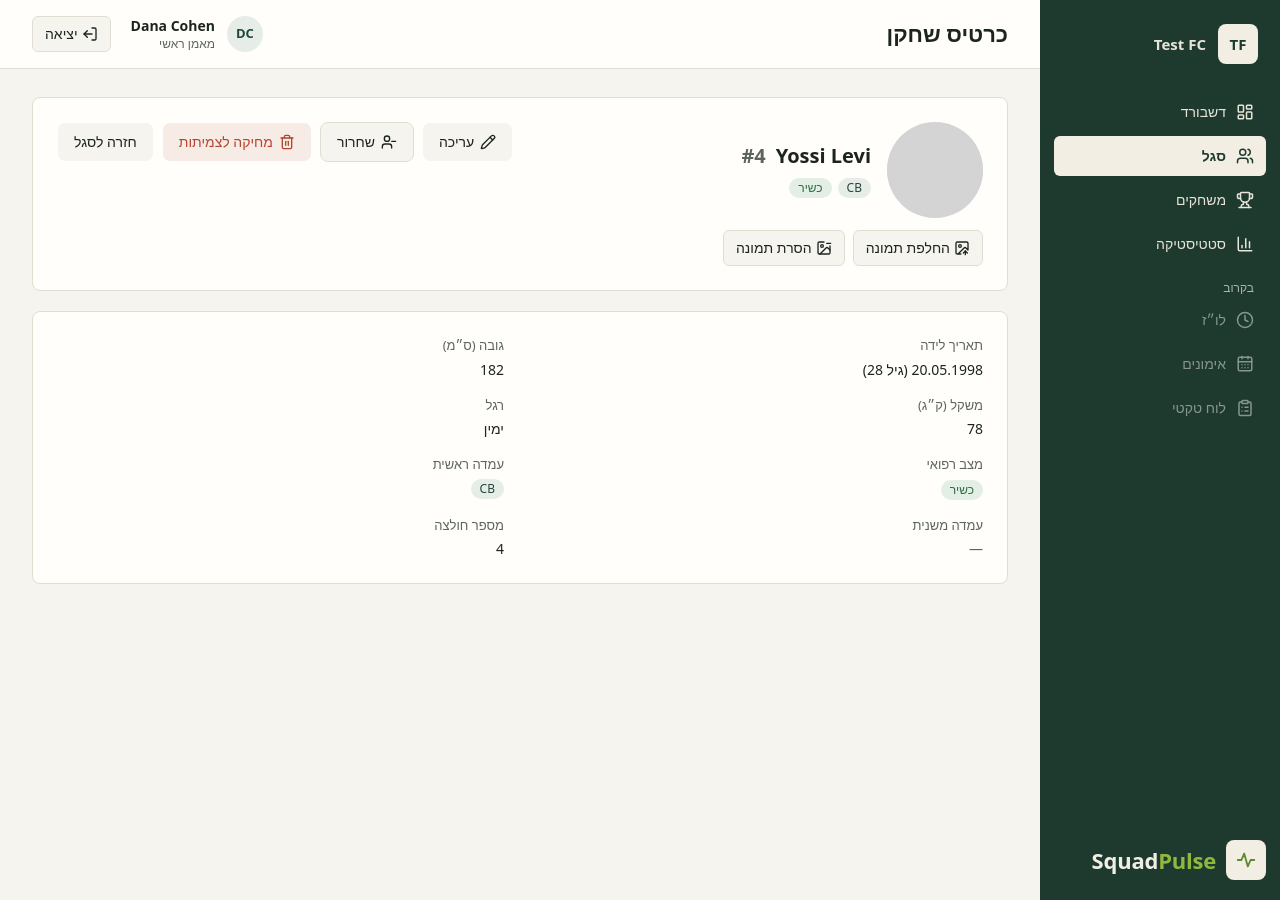
it: the card's photo controls › show a failed removal in its dialog
expect the heading "Yossi Levi" is shown: met, box [776,142,871,170]
Click the button "הסרת תמונה" at (784, 248), box [723,230,845,266]
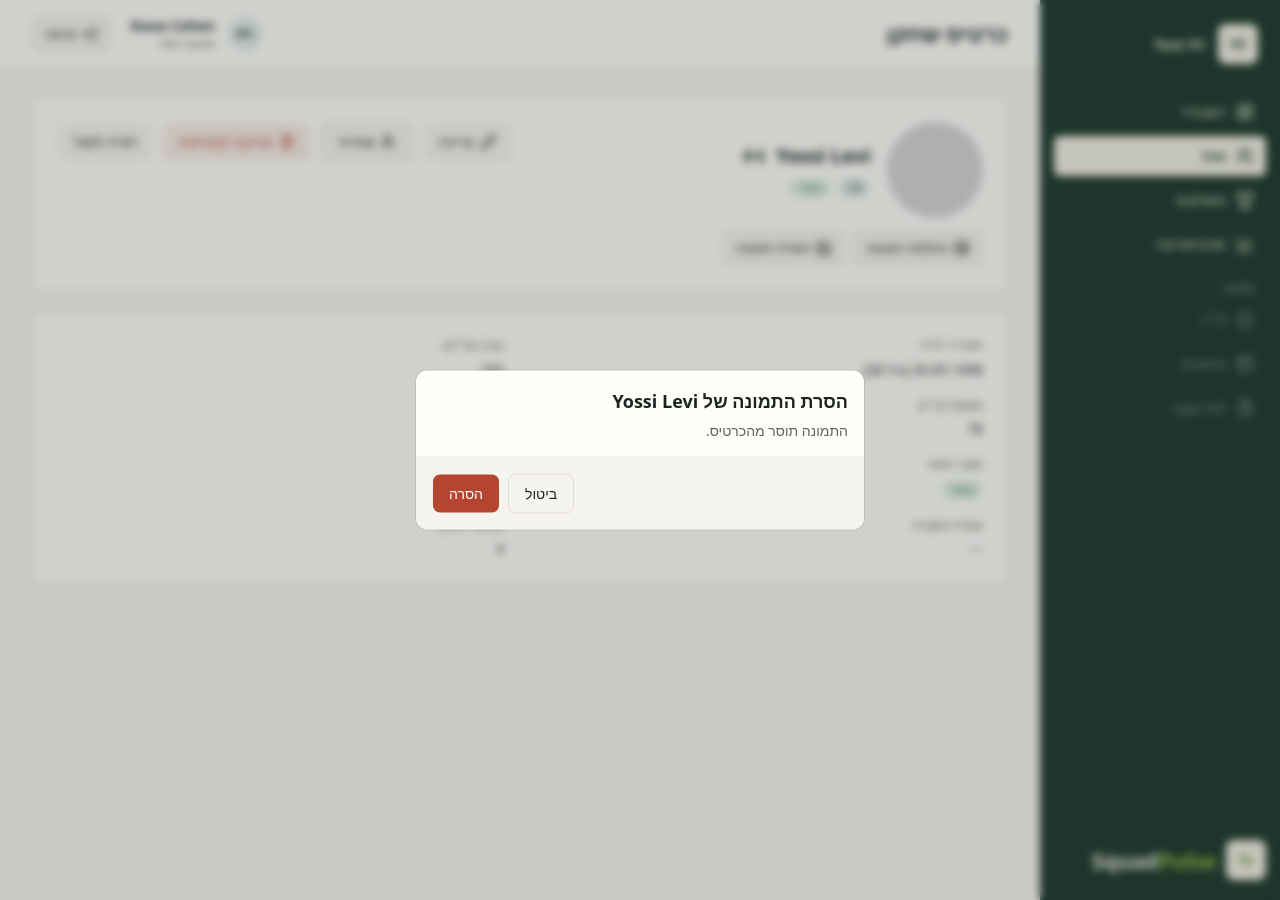
Click the button "הסרה" at (466, 494), box [432,474,500,514]
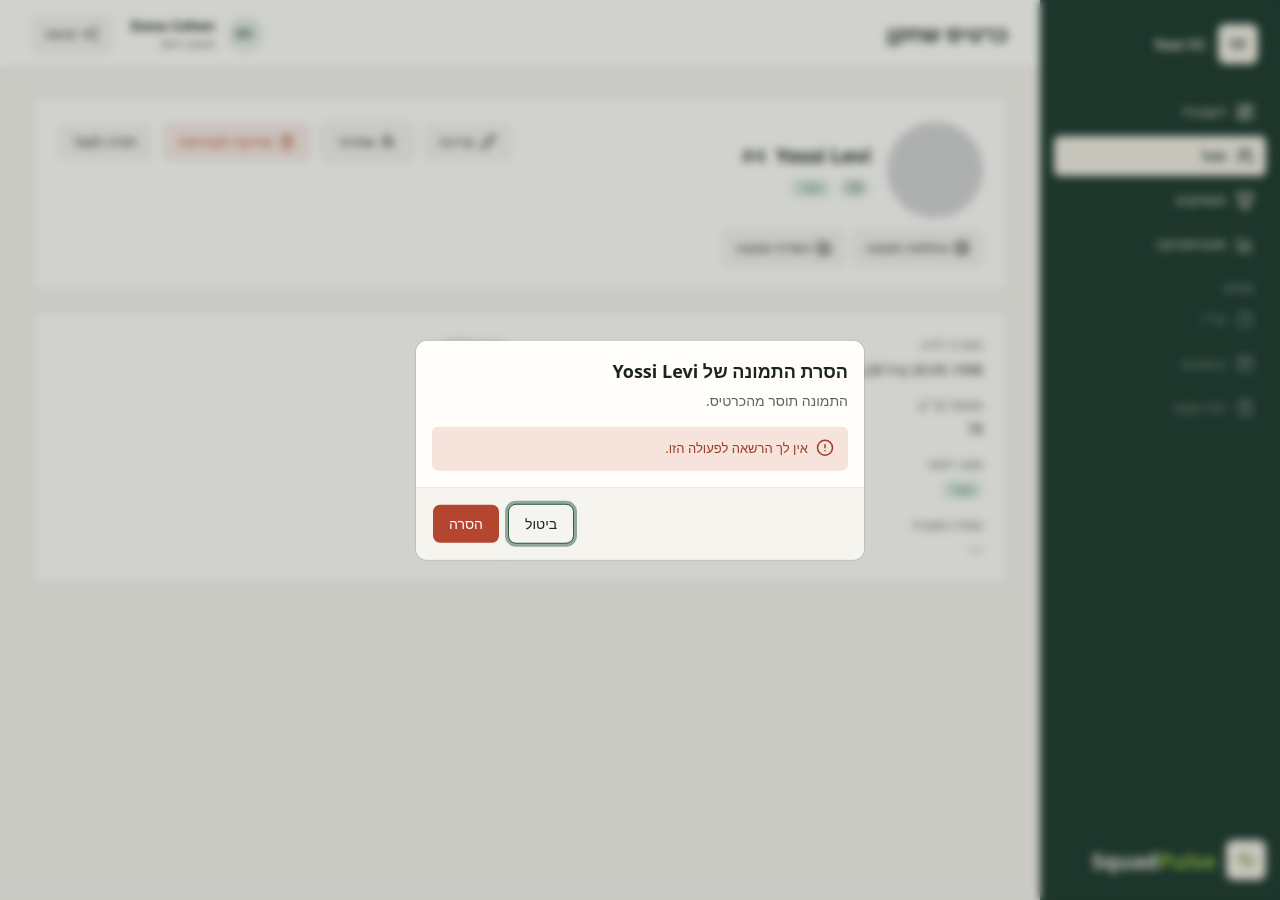
expect the message reads "אין לך הרשאה לפעולה הזו.": met, box [665,439,808,457]
